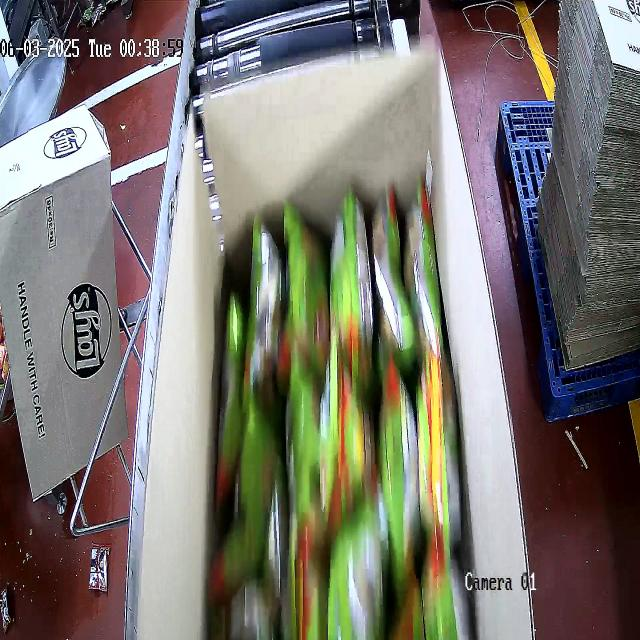YOGURT_HERB: (208, 170, 461, 638)
